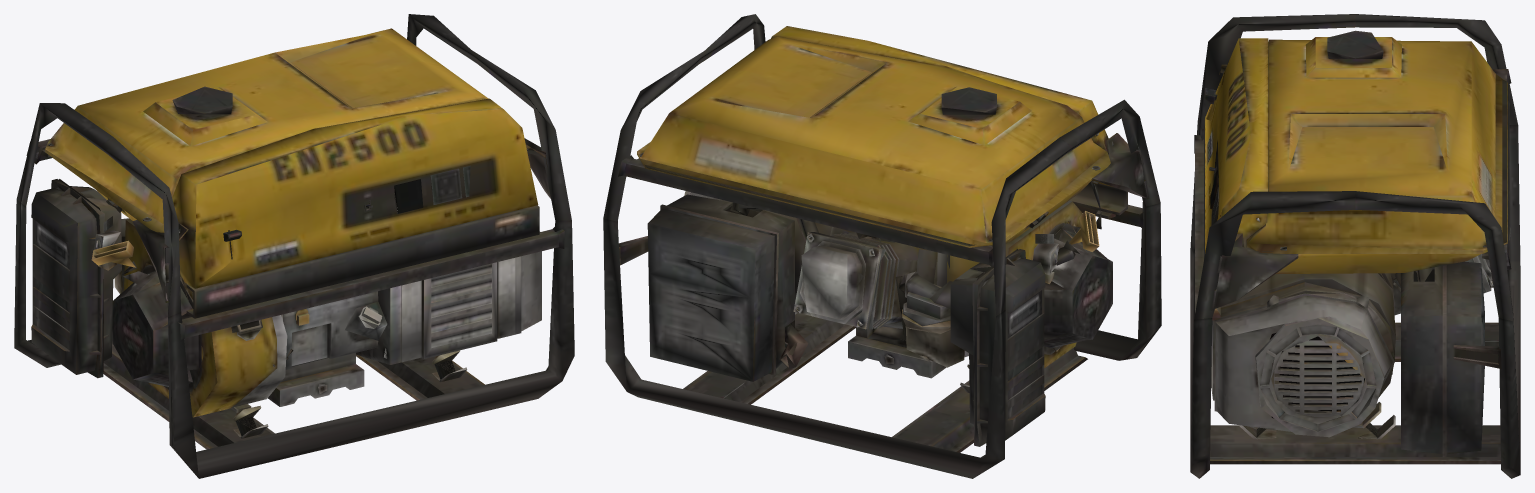
The model's file is generator.glb.
3 renders of one model, left to right at view 1: azimuth 30°, elevation 25°; view 2: azimuth 150°, elevation 25°; view 3: azimuth 270°, elevation 25°, orthographic.
Parts seen in each view (by area): view 1: portable_generator; view 2: portable_generator; view 3: portable_generator.
Part boxes in pixels (left/top/right/bottom): portable_generator: left=14, top=14, right=574, bottom=478; portable_generator: left=603, top=14, right=1161, bottom=478; portable_generator: left=1190, top=14, right=1520, bottom=478.
Size of the model in its own units: 0.8146 by 0.5752 by 0.559.
Materials: 2 (2 with a texture image).
